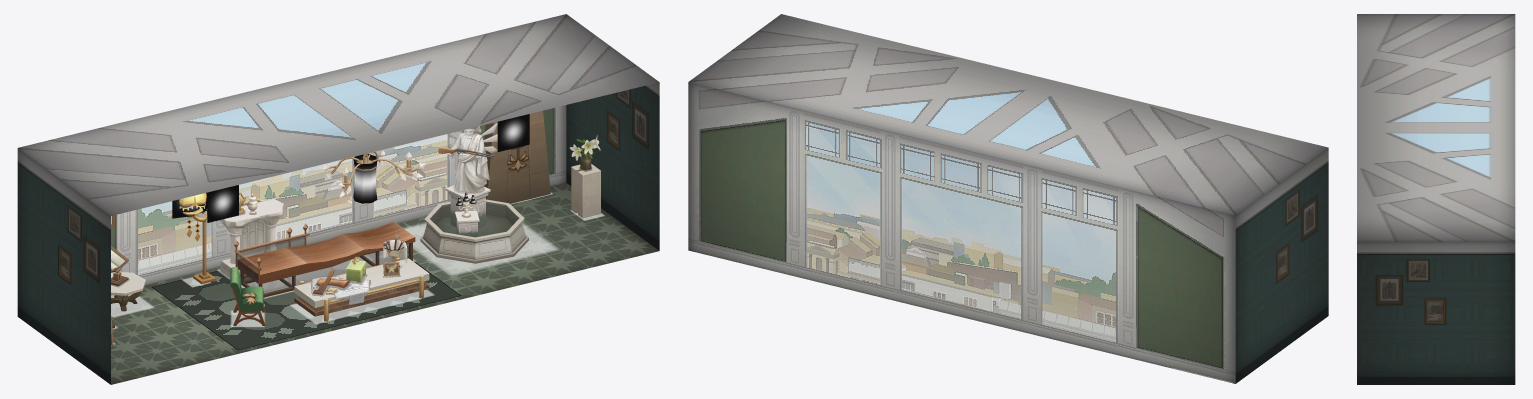
File: NHL.glb
The picture shows the model from 3 angles, left to right: view 1: azimuth 30°, elevation 25°; view 2: azimuth 150°, elevation 25°; view 3: azimuth 270°, elevation 25°; orthographic projection. The views are drawn at different scales.
Visible parts, largest first — view 1: ROOM_room, ROOM_floor, furni_NHL_carpet_01, furni_NHL_statue_01, furni_NHL_seat_01, furni_NHL_coffeeTable_01, furni_NHL_clock_01, furni_NHL_stand_01, furni_NHL_statue_02, furni_NHL_seat_02, shadow_01.010, furni_NHL_vase_01 (+13 smaller); view 2: ROOM_room, ROOM_LDoor; view 3: ROOM_room, ROOM_RDoor.
Boxes of the visible parts, bbox=[...] form: ROOM_room: bbox=[17, 14, 659, 384]; ROOM_floor: bbox=[111, 183, 658, 384]; furni_NHL_carpet_01: bbox=[151, 251, 460, 350]; furni_NHL_statue_01: bbox=[420, 146, 528, 263]; furni_NHL_seat_01: bbox=[234, 221, 415, 297]; furni_NHL_coffeeTable_01: bbox=[294, 233, 429, 321]; furni_NHL_clock_01: bbox=[484, 110, 550, 203]; furni_NHL_stand_01: bbox=[219, 191, 283, 278]; furni_NHL_statue_02: bbox=[446, 122, 497, 193]; furni_NHL_seat_02: bbox=[236, 236, 409, 294]; shadow_01.010: bbox=[404, 222, 558, 275]; furni_NHL_vase_01: bbox=[571, 153, 600, 218]; ROOM_room: bbox=[688, 14, 1328, 383]; ROOM_LDoor: bbox=[1296, 249, 1314, 339]; ROOM_room: bbox=[1357, 14, 1515, 384]; ROOM_RDoor: bbox=[1380, 319, 1412, 384].
Bounding box in the file's own units: 7.5 × 2.2 × 2.25.
8 materials, 8 textured.
